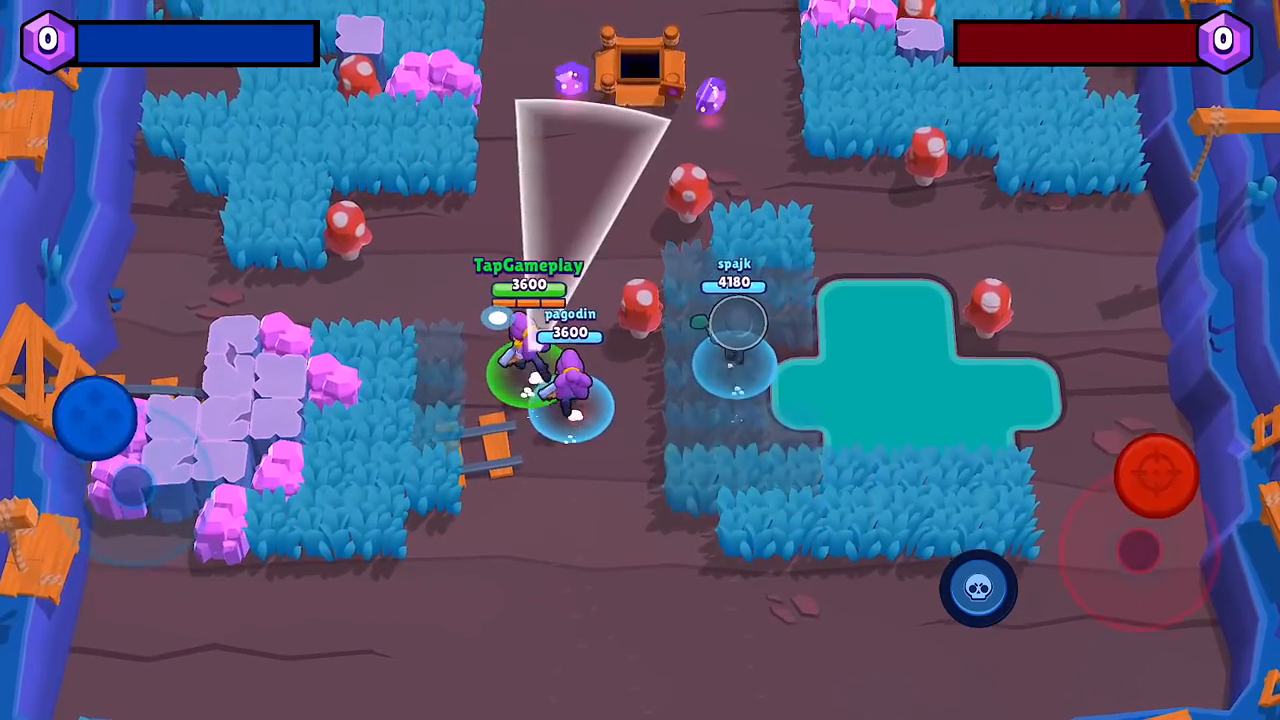move_stick: (45, 378, 142, 453)
